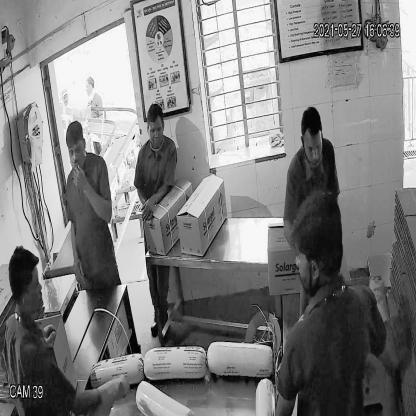no_goggles: (299, 136, 325, 159), (64, 142, 87, 161)
